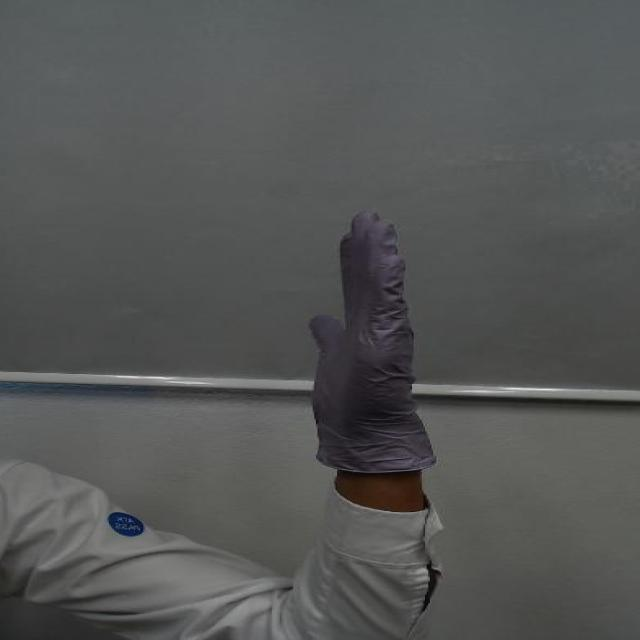glove: (296, 214, 437, 453)
